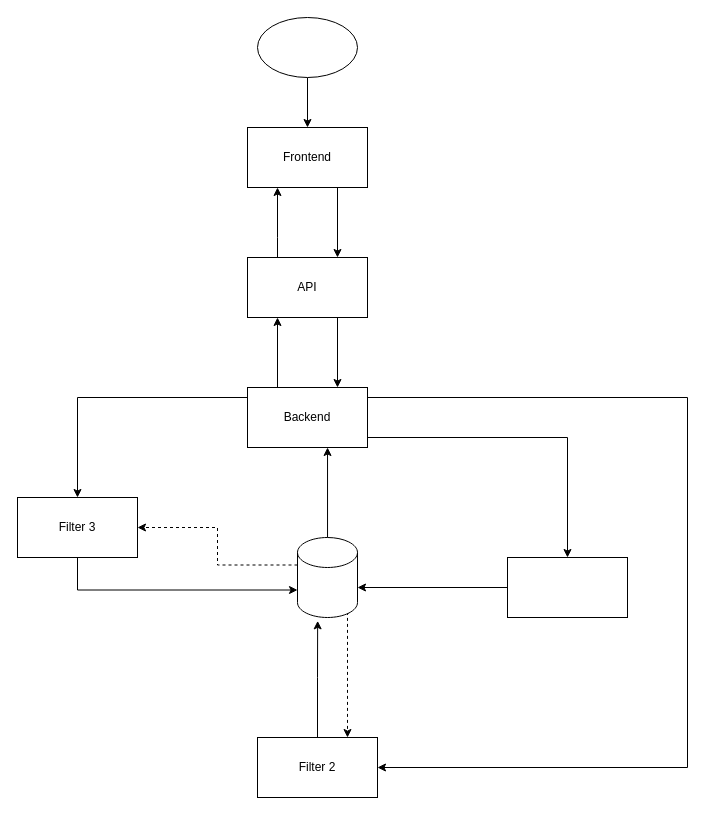
Image size: 713x815. Some labels were removed from this diagram. The shapes that lost their labels are listed below. From the top down, each one's centre as x and y in pixels, then its label:
At (307,47): "Users".
At (327,577): "Database".
At (567,587): "Filter 1".
